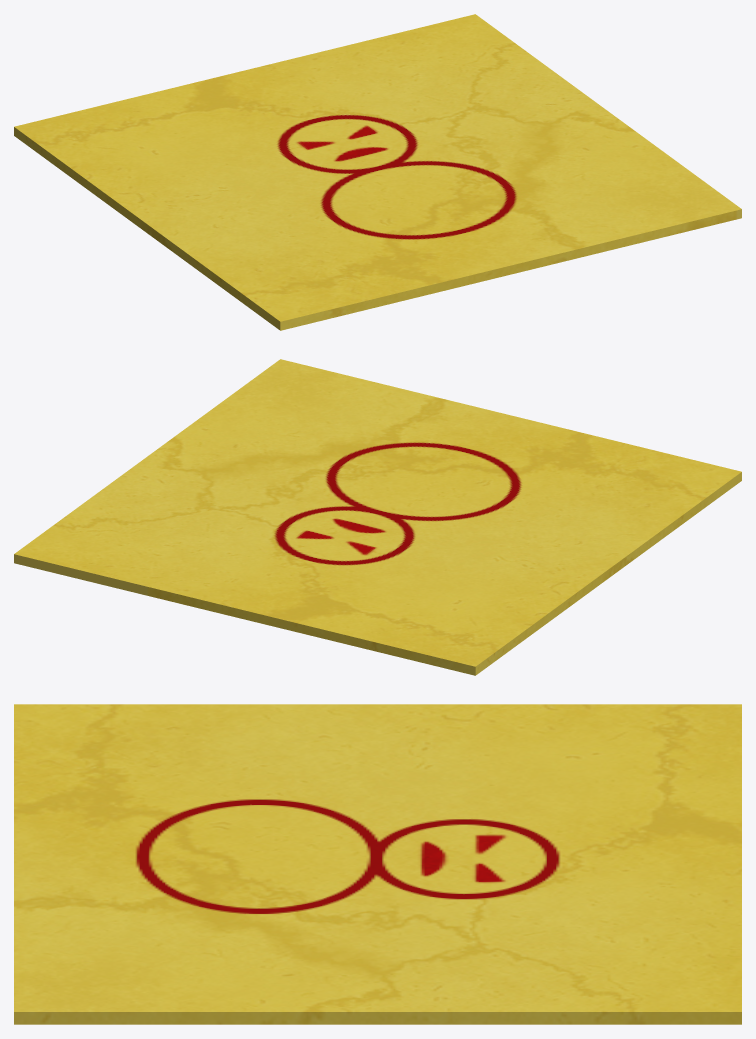
The model's file is Footboard_1.fbx.
The picture shows the model from 3 angles, top to bottom: view 1: azimuth 30°, elevation 25°; view 2: azimuth 150°, elevation 25°; view 3: azimuth 270°, elevation 25°; orthographic projection. The views are drawn at different scales.
Visible parts, largest first — view 1: Box001; view 2: Box001; view 3: Box001.
Boxes of the visible parts, left/top/right/bottom form: Box001: left=14, top=14, right=741, bottom=330; Box001: left=14, top=359, right=741, bottom=675; Box001: left=14, top=704, right=741, bottom=1024.
Bounding box in the file's own units: 31.5 × 0.5906 × 31.5.
